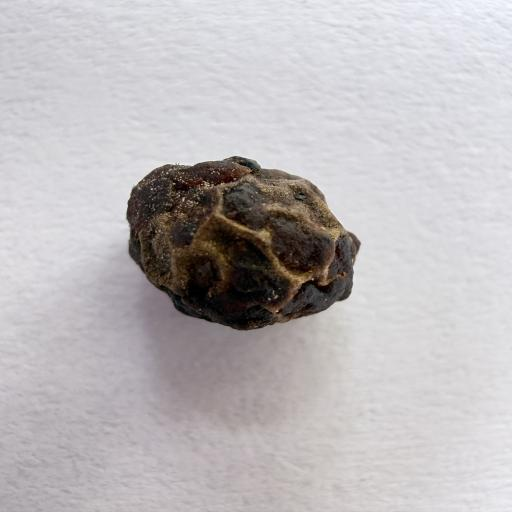Black_pepper: (103, 147, 386, 337)
